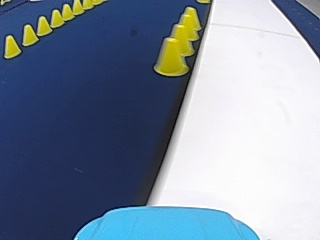cone: (152, 35, 188, 76), (168, 23, 193, 56), (178, 6, 201, 39), (3, 34, 21, 57), (21, 24, 38, 45), (36, 15, 52, 35), (50, 9, 63, 27), (61, 3, 73, 20), (72, 0, 83, 14), (82, 0, 91, 9)
